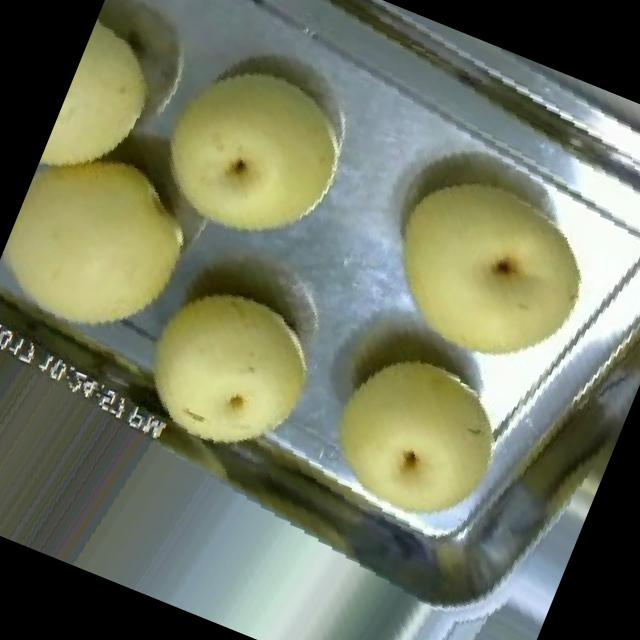Fruit: (338, 127, 636, 410), (114, 17, 388, 289), (292, 315, 546, 562), (0, 115, 230, 378), (110, 251, 352, 485), (28, 0, 197, 225)
